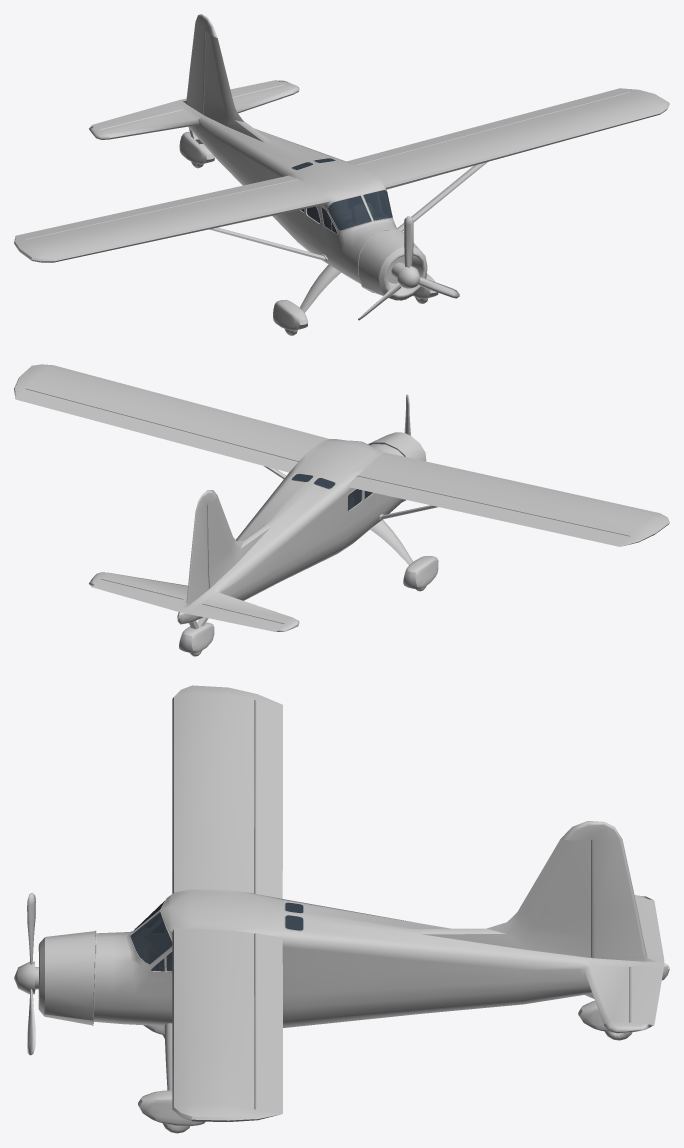
File: Lowpoly Aircraft with interior.FBX
The picture shows the model from 3 angles, top to bottom: view 1: azimuth 30°, elevation 25°; view 2: azimuth 150°, elevation 25°; view 3: azimuth 270°, elevation 25°; orthographic projection. The views are drawn at different scales.
Visible parts, largest first — view 1: Lowpoly Aircraft Body, Aircraft Windows Glass, Lowpoly Aircraft Propeller, Lowpoly Aircraft Flap vertical, Lowpoly Aircraft Flap2, Lowpoly Aircraft Flap3, Lowpoly Aircraft Flap6, Lowpoly Aircraft Flap1, Lowpoly Aircraft Flap4, Lowpoly Aircraft Flap5; view 2: Lowpoly Aircraft Body, Lowpoly Aircraft Flap2, Lowpoly Aircraft Flap3, Lowpoly Aircraft Flap vertical, Lowpoly Aircraft Flap1, Lowpoly Aircraft Flap4, Lowpoly Aircraft Flap6, Lowpoly Aircraft Flap5; view 3: Lowpoly Aircraft Body, Lowpoly Aircraft Flap vertical, Lowpoly Aircraft Flap3, Lowpoly Aircraft Flap2, Lowpoly Aircraft Flap4, Lowpoly Aircraft Flap1, Lowpoly Aircraft Flap5, Aircraft Windows Glass, Lowpoly Aircraft Propeller, Lowpoly Aircraft Flap6.
Part boxes in pixels (x1,y1,x2,y2): Lowpoly Aircraft Body: (14,31,669,330); Aircraft Windows Glass: (301,190,392,233); Lowpoly Aircraft Propeller: (358,216,459,320); Lowpoly Aircraft Flap vertical: (186,14,217,114); Lowpoly Aircraft Flap2: (347,121,507,164); Lowpoly Aircraft Flap3: (137,175,298,212); Lowpoly Aircraft Flap6: (89,102,182,139); Lowpoly Aircraft Flap1: (499,88,629,124); Lowpoly Aircraft Flap4: (16,209,146,239); Lowpoly Aircraft Flap5: (230,80,299,97); Lowpoly Aircraft Body: (14,364,669,653); Lowpoly Aircraft Flap2: (137,421,297,472); Lowpoly Aircraft Flap3: (347,476,507,520); Lowpoly Aircraft Flap vertical: (186,490,217,602); Lowpoly Aircraft Flap1: (16,389,146,431); Lowpoly Aircraft Flap4: (499,509,629,546); Lowpoly Aircraft Flap6: (190,604,299,631); Lowpoly Aircraft Flap5: (89,572,182,609); Lowpoly Aircraft Body: (38,685,669,1125); Lowpoly Aircraft Flap vertical: (561,821,647,957); Lowpoly Aircraft Flap3: (254,786,282,898); Lowpoly Aircraft Flap2: (254,933,282,1035); Lowpoly Aircraft Flap4: (254,700,282,790); Lowpoly Aircraft Flap1: (254,1031,282,1113); Lowpoly Aircraft Flap5: (604,967,663,1033); Aircraft Windows Glass: (130,901,172,971); Lowpoly Aircraft Propeller: (14,893,38,1055); Lowpoly Aircraft Flap6: (634,895,663,956).
Size of the model in its own units: 13.77 by 3.98 by 8.83.
